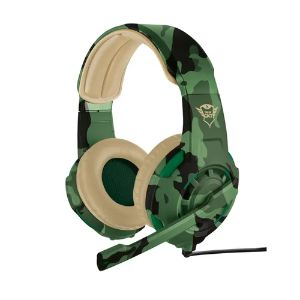headset: (55, 18, 266, 277)
